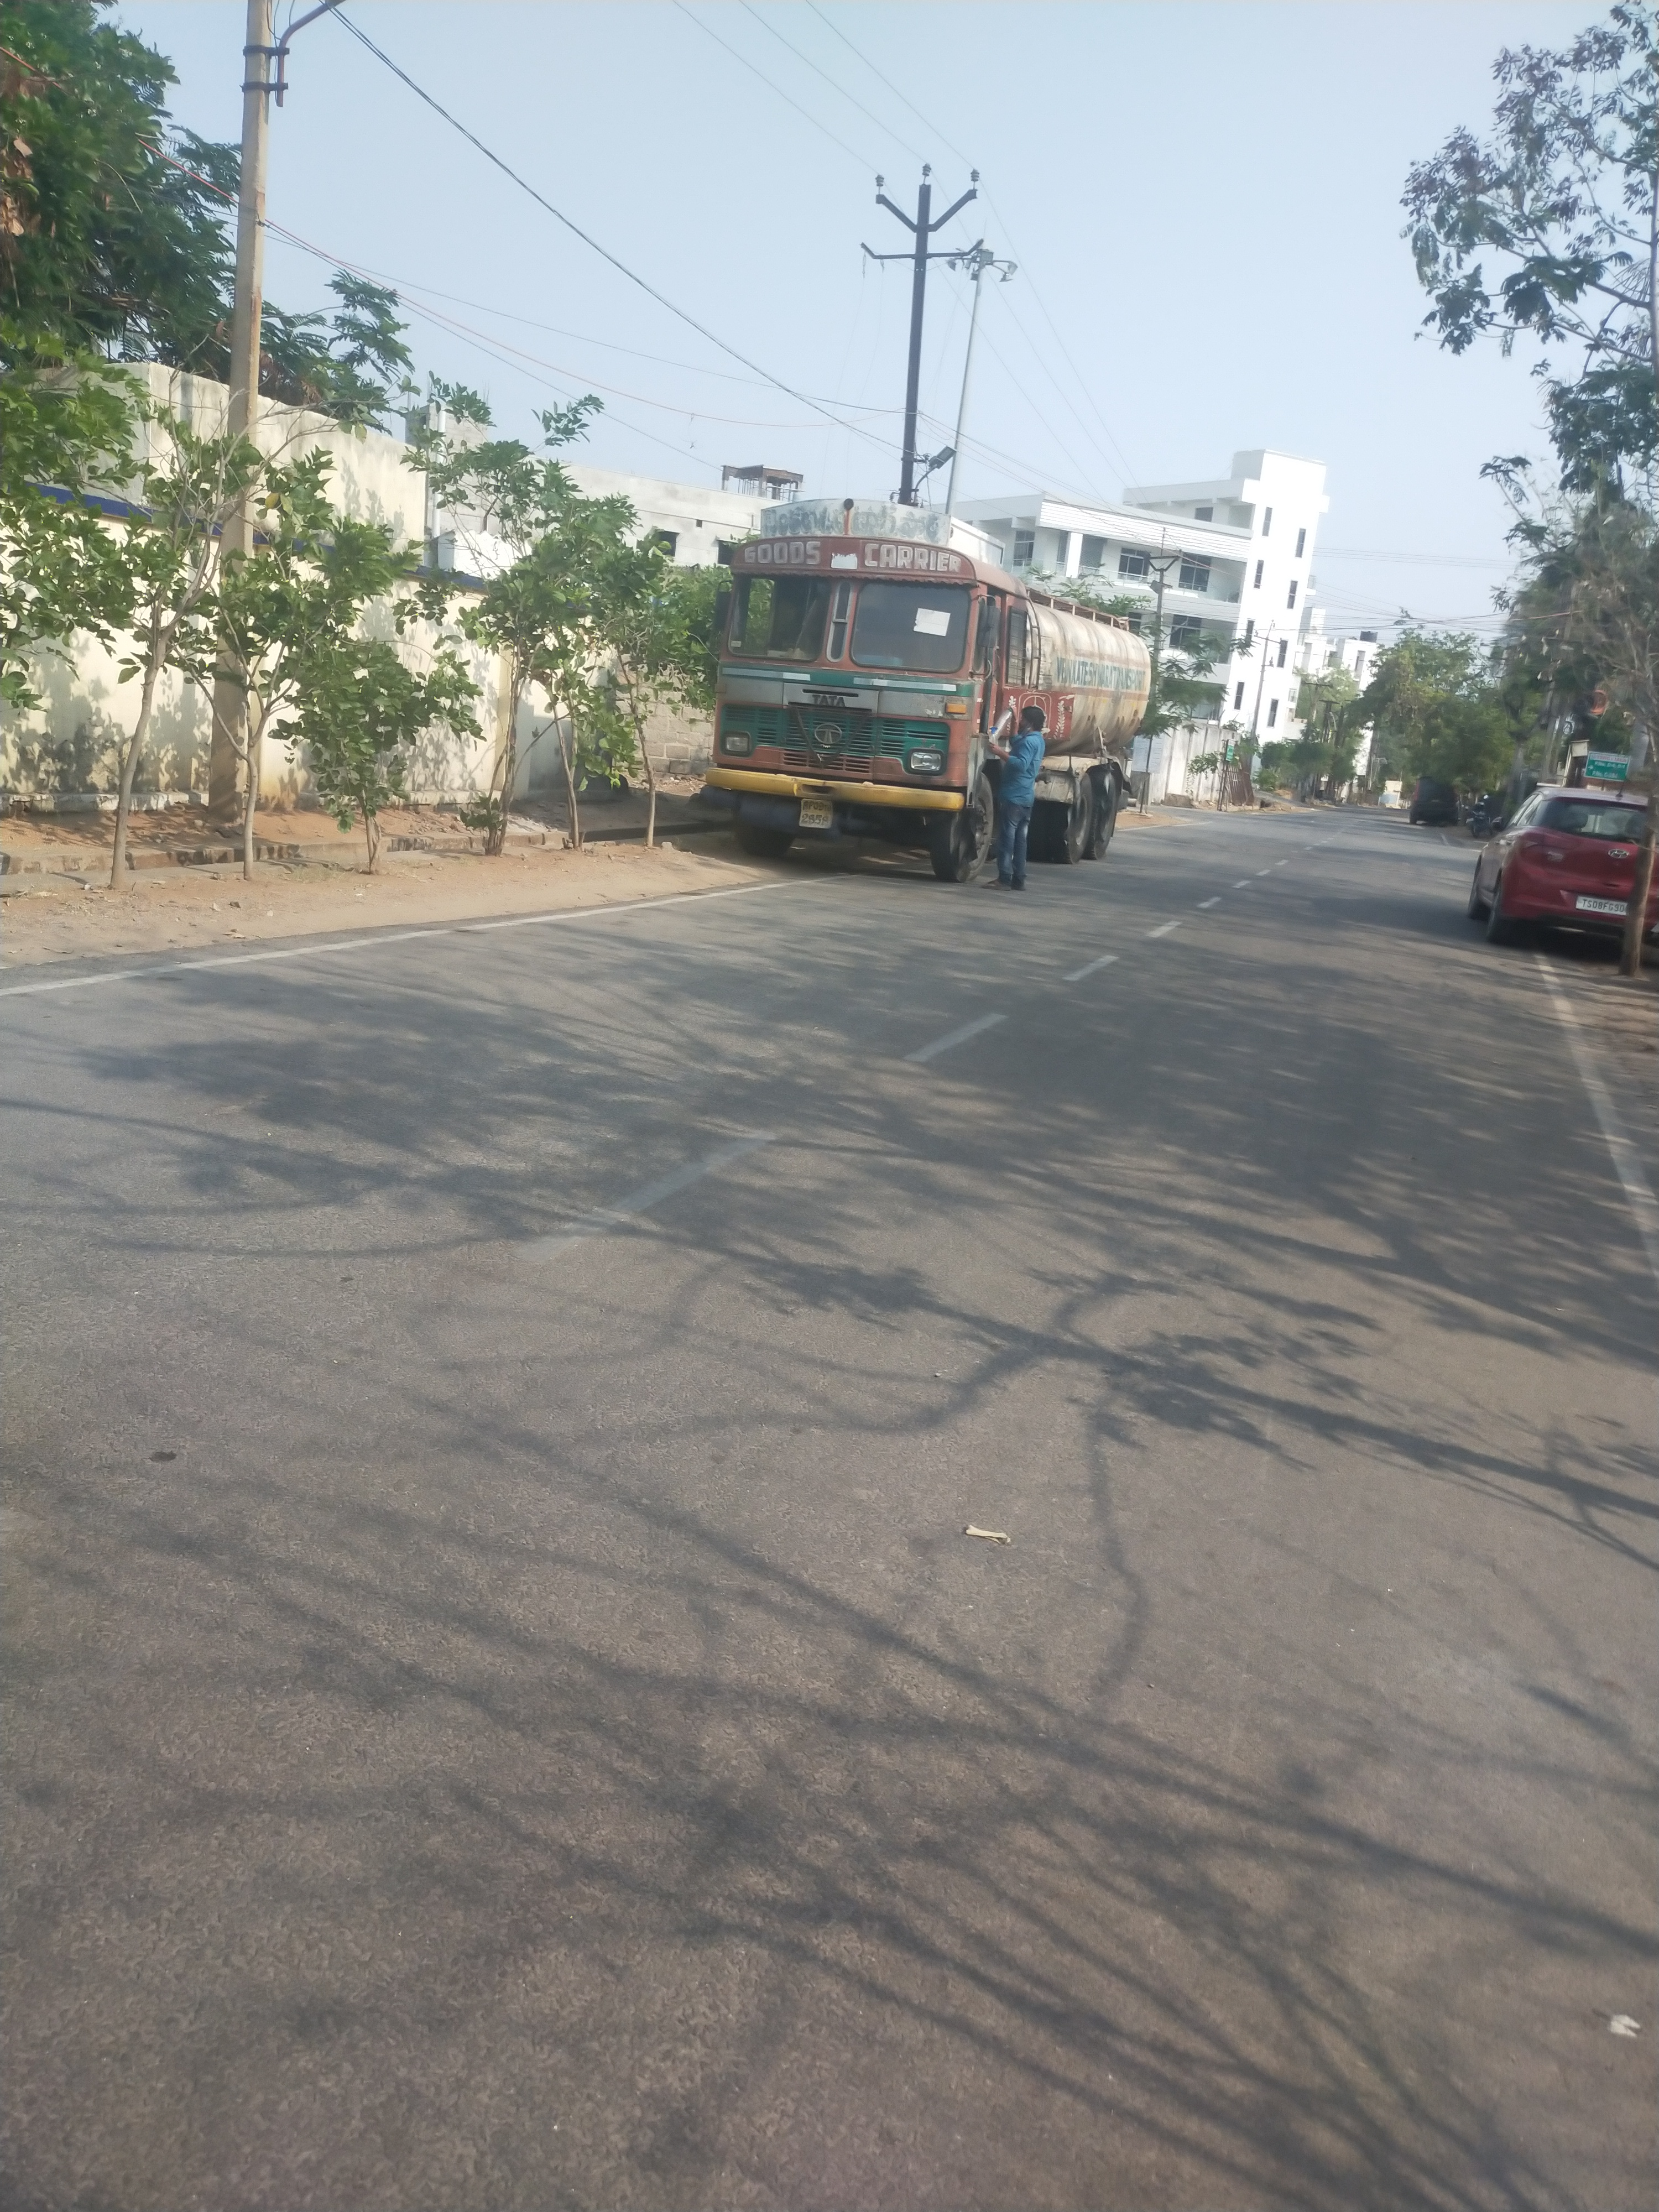truck: (697, 495, 1154, 885)
